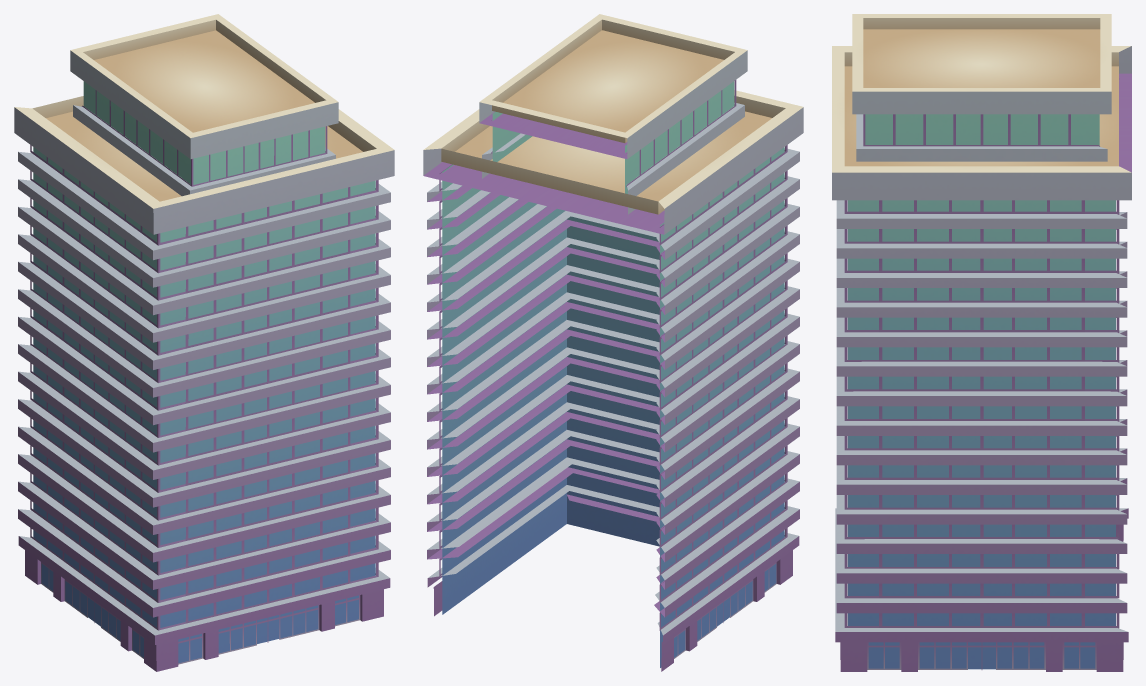
The picture shows the model from 3 angles, left to right: view 1: azimuth 30°, elevation 25°; view 2: azimuth 150°, elevation 25°; view 3: azimuth 270°, elevation 25°; orthographic projection. The views are drawn at different scales.
Parts seen in each view (by area): view 1: SM_17F_02; view 2: SM_17F_02; view 3: SM_17F_02.
Part boxes in pixels (x1,y1,x2,y2): SM_17F_02: (14,14,394,671); SM_17F_02: (423,14,803,671); SM_17F_02: (832,14,1131,671).
Size of the model in its own units: 28.52 by 58.76 by 28.52.
